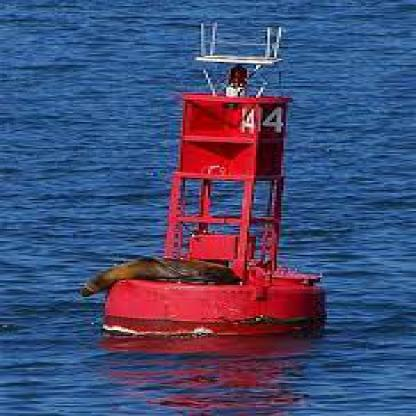buoy: (87, 21, 336, 336)
